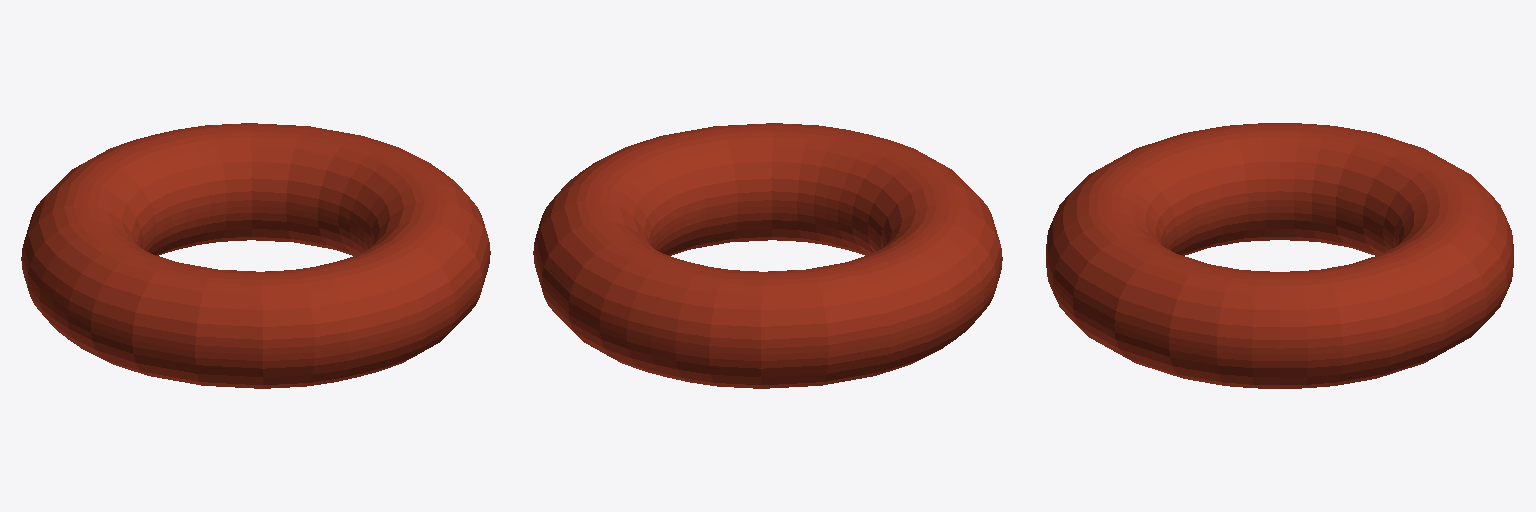
Rendered from Donut.obj.
The picture shows the model from 3 angles: view 1: azimuth 30°, elevation 25°; view 2: azimuth 150°, elevation 25°; view 3: azimuth 270°, elevation 25°; orthographic projection.
Visible parts, largest first — view 1: SurfTorus; view 2: SurfTorus; view 3: SurfTorus.
Boxes of the visible parts, box(x1,y1,x2,y2) form: SurfTorus: box(21, 123, 490, 388); SurfTorus: box(533, 123, 1002, 388); SurfTorus: box(1046, 123, 1513, 388).
Size of the model in its own units: 2 by 0.5 by 2.